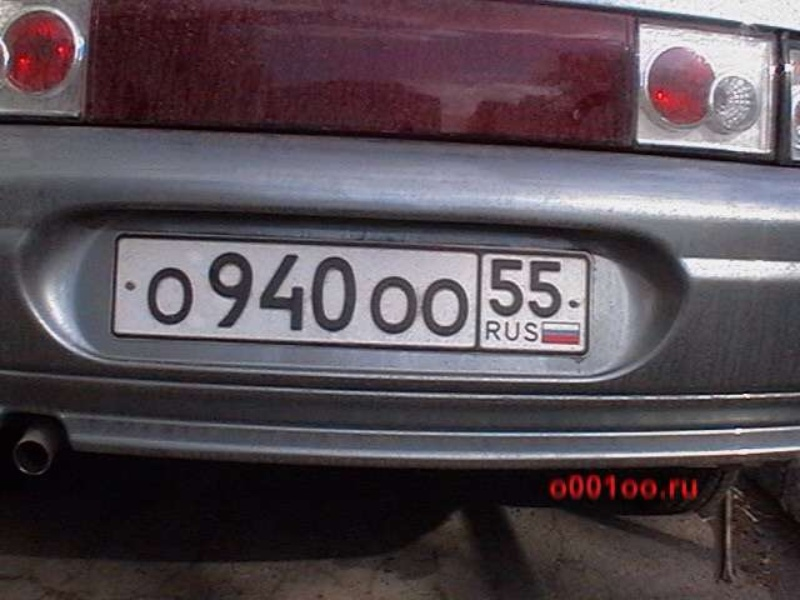plate: (112, 232, 592, 355)
